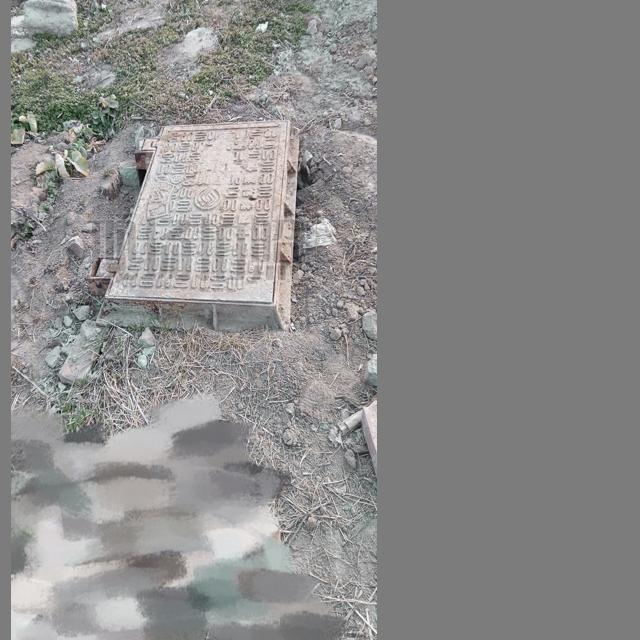circle: (88, 113, 306, 335)
